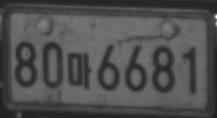0: (41, 41, 64, 88)
1: (180, 46, 201, 93)
6: (97, 44, 120, 91), (124, 45, 147, 91)
8: (150, 45, 176, 93), (15, 40, 37, 87)
마: (67, 51, 92, 90)
